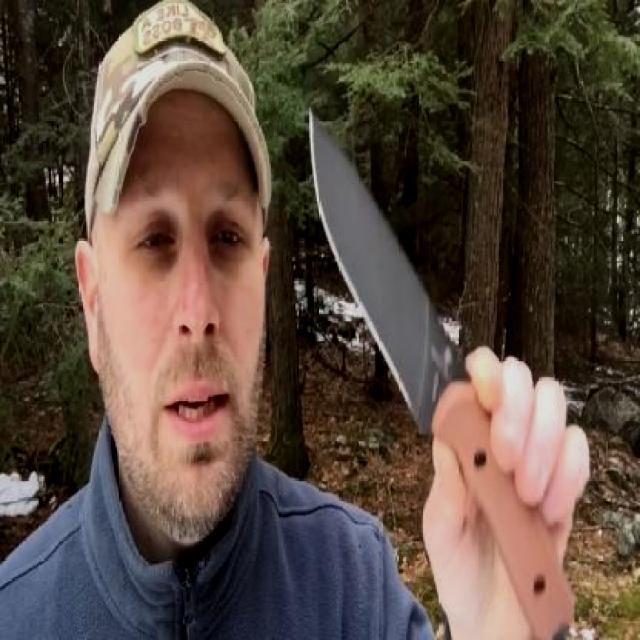knife: (302, 94, 543, 512)
